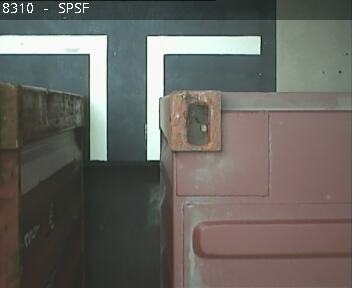groundmarker_1: (1, 34, 259, 160)
